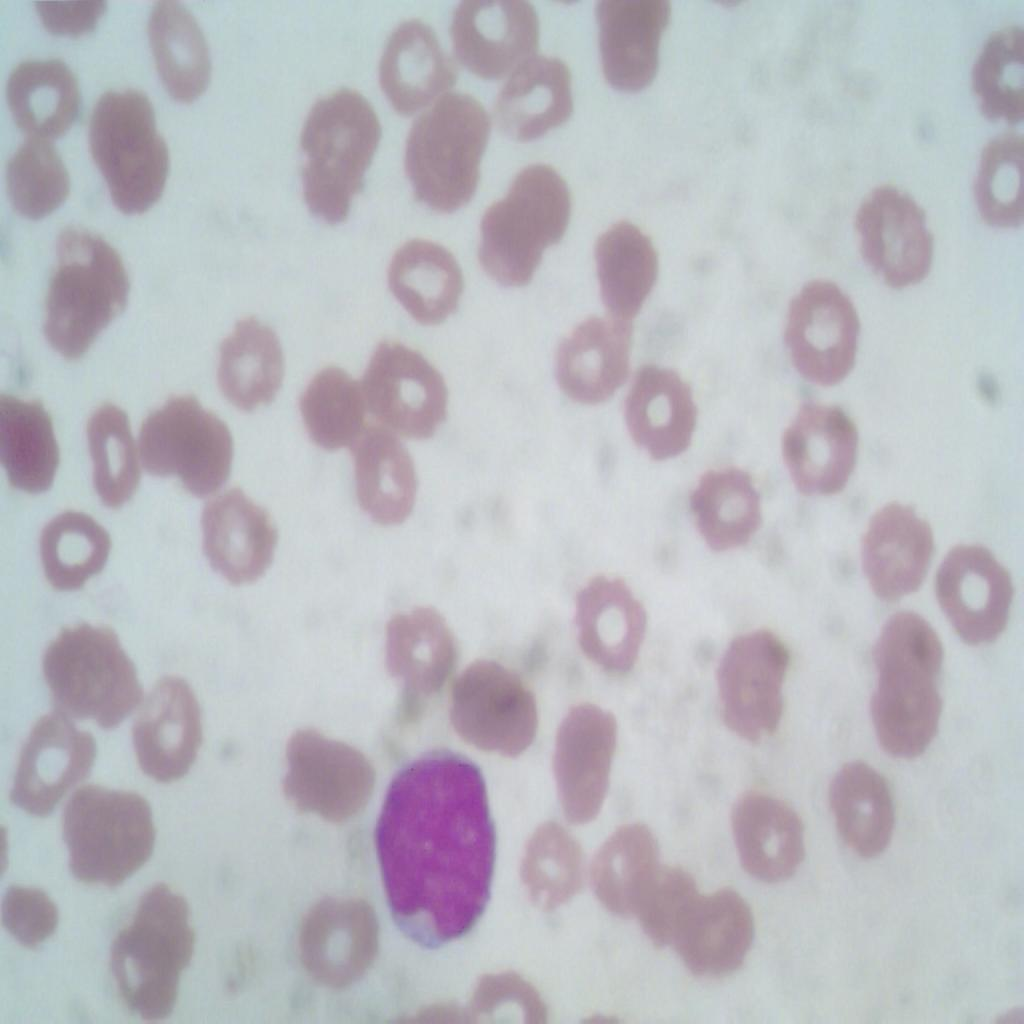Eritrosit: (104, 878, 203, 1023), (38, 230, 136, 360), (38, 602, 144, 721), (299, 78, 386, 222), (541, 680, 621, 831), (130, 674, 218, 802), (448, 641, 541, 761), (286, 875, 380, 992), (366, 332, 458, 451), (713, 634, 809, 748), (281, 719, 375, 832), (401, 92, 491, 210), (53, 781, 155, 884), (88, 88, 173, 211), (774, 272, 868, 379), (378, 598, 458, 721), (934, 534, 1020, 648), (853, 494, 941, 601), (848, 181, 933, 285), (191, 488, 279, 588), (726, 788, 809, 891), (138, 4, 226, 100), (586, 1, 678, 91), (824, 751, 896, 865), (778, 398, 858, 500), (588, 814, 663, 921), (14, 712, 102, 802), (0, 56, 84, 148), (0, 390, 70, 500), (495, 47, 571, 147), (350, 424, 421, 531), (38, 492, 111, 594), (78, 395, 140, 515), (382, 231, 466, 319), (595, 214, 659, 326), (214, 310, 282, 414), (870, 664, 942, 762), (0, 137, 78, 225), (628, 364, 694, 468), (693, 461, 764, 557), (575, 580, 648, 671), (866, 605, 942, 692), (471, 197, 542, 290), (374, 24, 456, 104), (502, 158, 571, 251), (518, 824, 586, 918), (550, 317, 628, 398), (456, 0, 541, 71), (170, 402, 230, 495), (306, 354, 364, 450), (966, 24, 1024, 118), (631, 872, 696, 952), (684, 897, 748, 975), (0, 885, 68, 958), (973, 138, 1023, 232), (144, 390, 191, 477)
Limfoblast: (375, 732, 506, 945)
